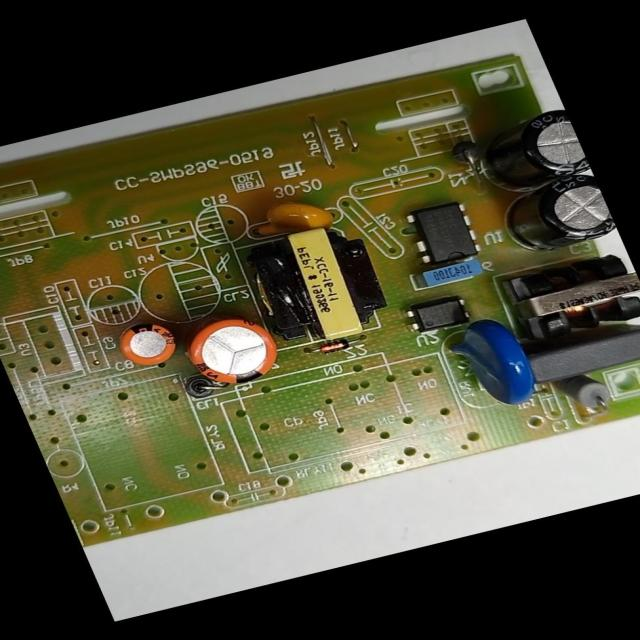Cap1: (169, 309, 290, 396)
Cap2: (111, 316, 187, 372)
Cap3: (494, 169, 619, 258)
Cap4: (465, 106, 591, 195)
MOSFET: (396, 198, 486, 270)
Mov: (431, 306, 546, 416)
Resistor: (548, 368, 619, 422)
Transformer: (240, 216, 406, 354), (498, 250, 640, 342)
